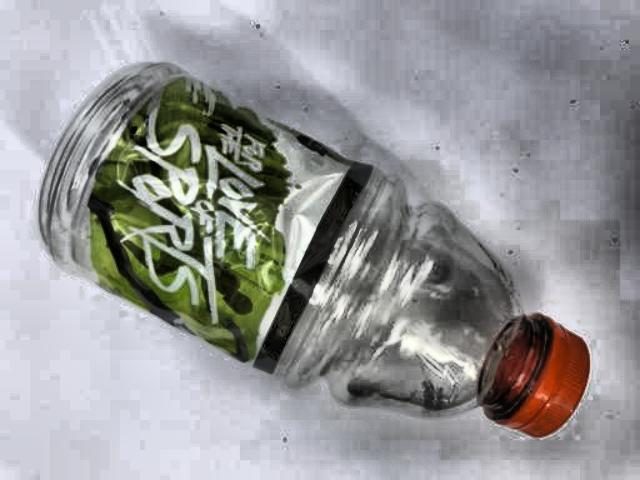Bottles: (8, 56, 609, 465)
